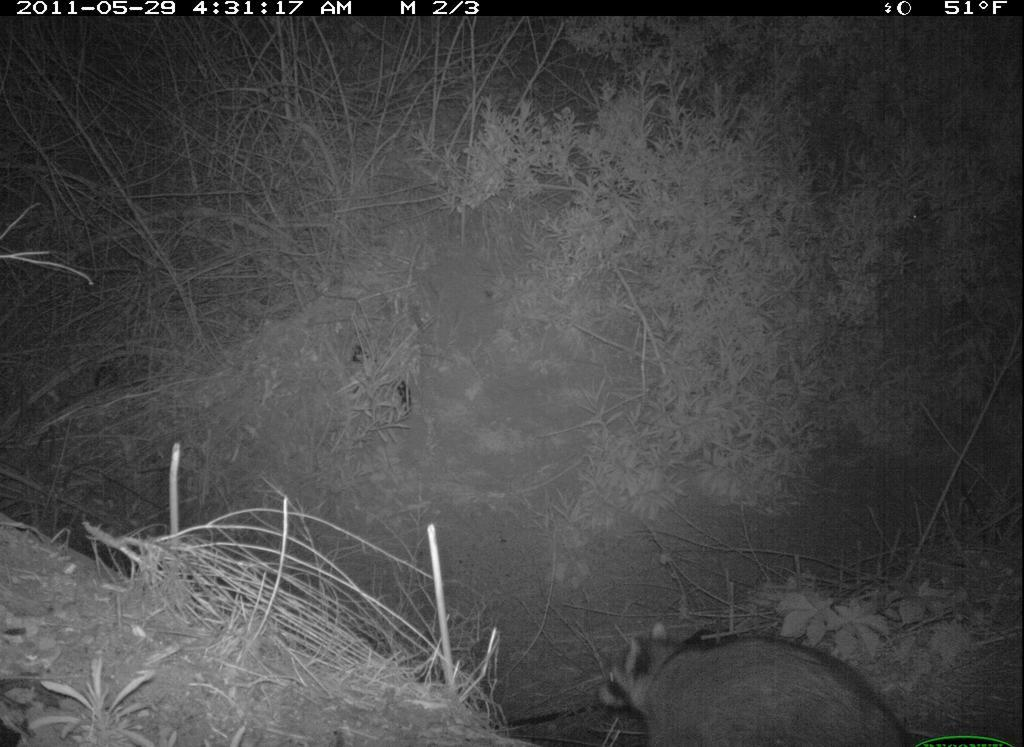raccoon: (592, 614, 913, 747)
